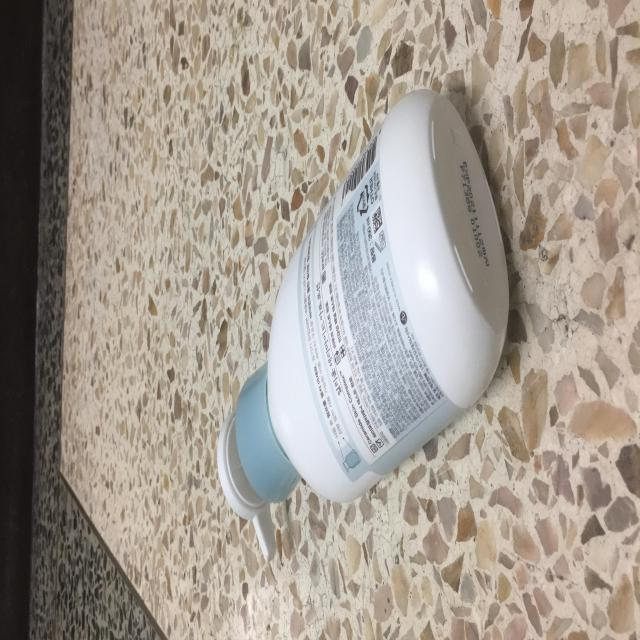bottle: (187, 79, 530, 575)
